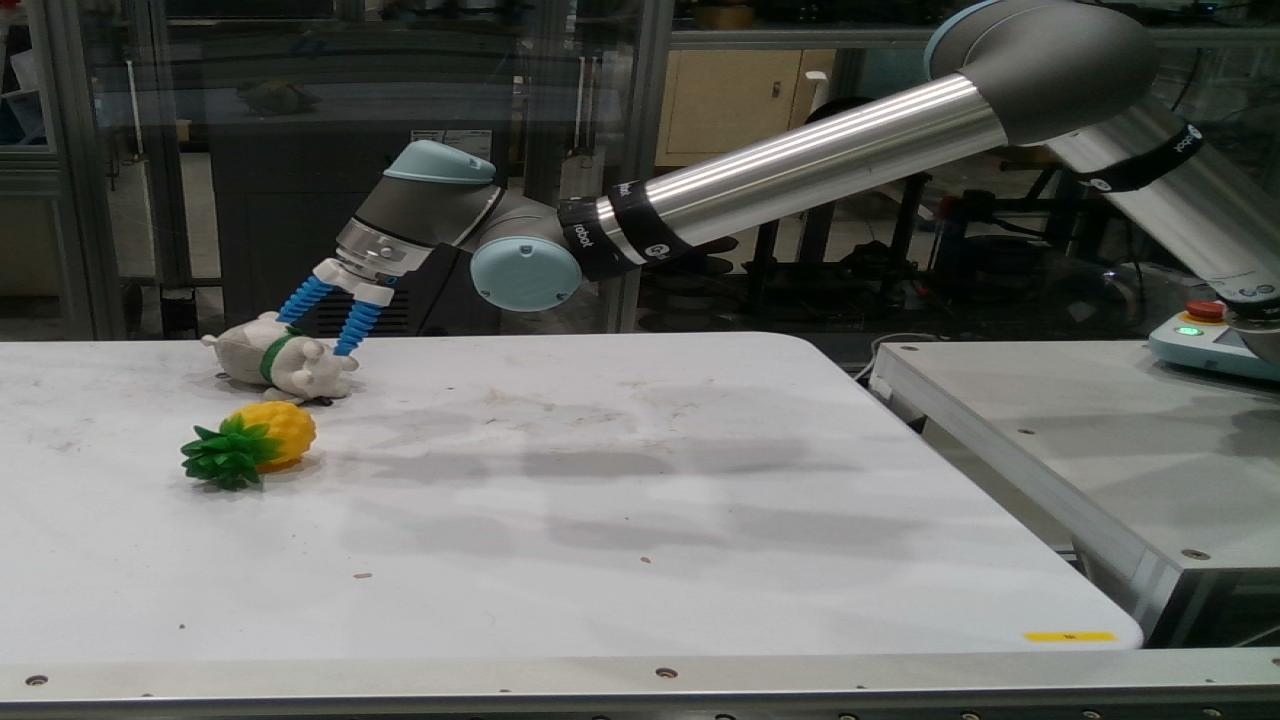UR5: (312, 0, 1266, 360)
gripper_left: (280, 277, 326, 323)
gripper_right: (338, 302, 380, 354)
target: (206, 296, 358, 405), (182, 402, 314, 489)
